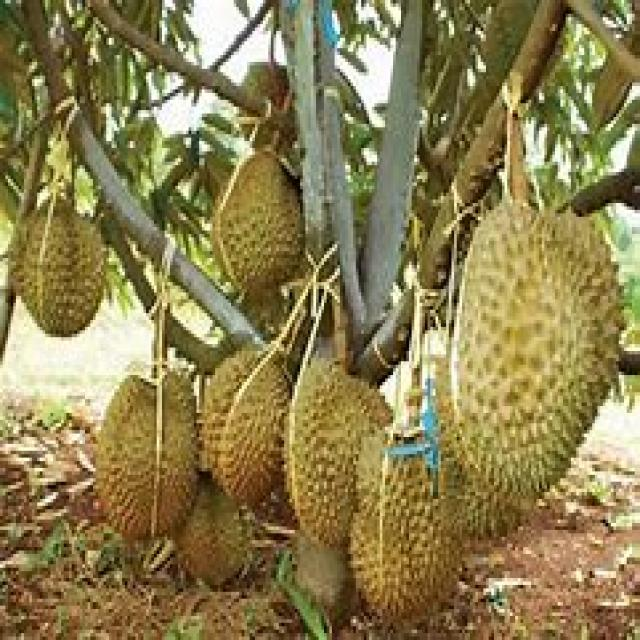mature: (201, 348, 291, 506), (96, 374, 156, 538), (156, 371, 198, 534)
